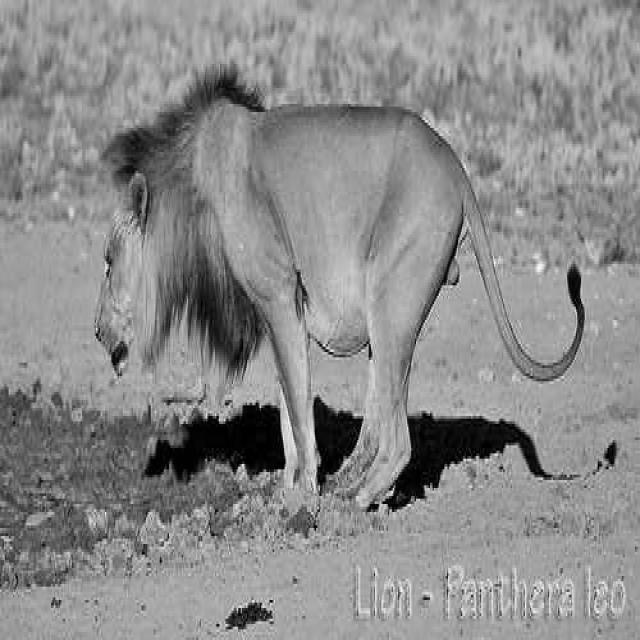Lion: (90, 69, 502, 528)
